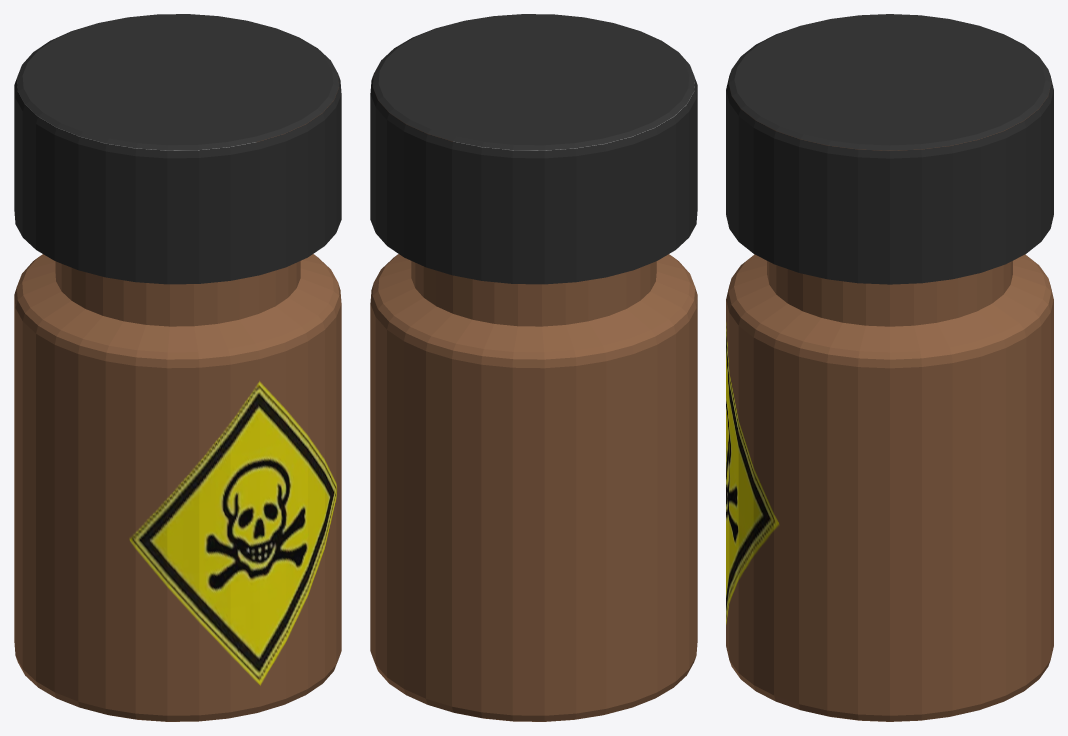
Rendered from poision_bottle.fbx.
3 renders of one model, left to right at view 1: azimuth 30°, elevation 25°; view 2: azimuth 150°, elevation 25°; view 3: azimuth 270°, elevation 25°, orthographic.
Visible parts, largest first — view 1: 三步倒药瓶; view 2: 三步倒药瓶; view 3: 三步倒药瓶.
Boxes of the visible parts, x1,y1,x2,y2 form: 三步倒药瓶: (14, 14, 341, 721); 三步倒药瓶: (370, 14, 697, 721); 三步倒药瓶: (726, 14, 1053, 721).
Size of the model in its own units: 100 by 194 by 100.
